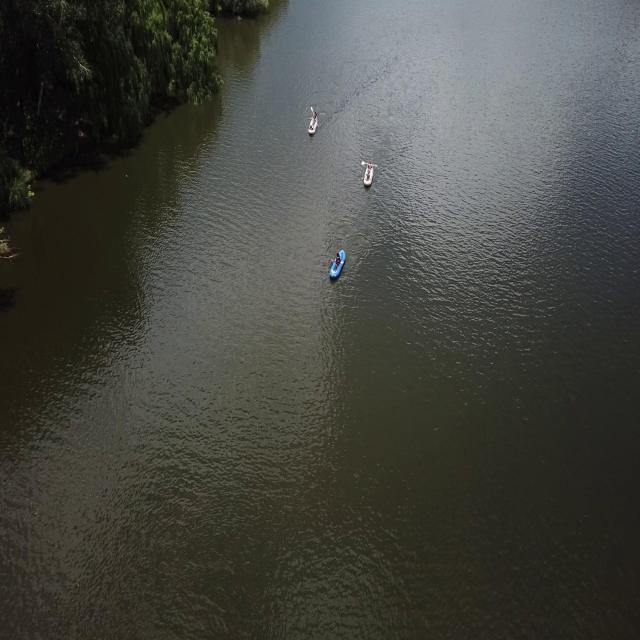kayak: (327, 245, 349, 285), (359, 160, 378, 195), (308, 108, 320, 140)
